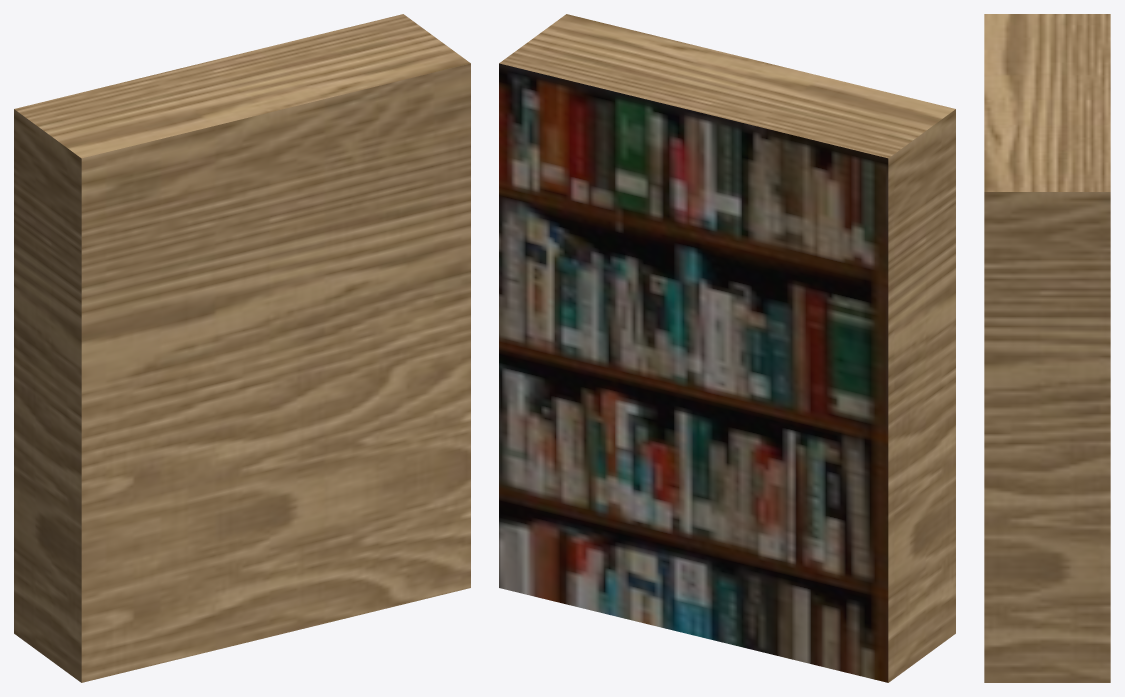
The model's file is BookCase1glb.glb.
The picture shows the model from 3 angles, left to right: view 1: azimuth 30°, elevation 25°; view 2: azimuth 150°, elevation 25°; view 3: azimuth 270°, elevation 25°; orthographic projection. The views are drawn at different scales.
Parts seen in each view (by area): view 1: Librero.002; view 2: Librero.002; view 3: Librero.002.
Part boxes in pixels (x1,y1,x2,y2): Librero.002: (14,14,470,682); Librero.002: (499,14,955,682); Librero.002: (984,14,1110,682).
Size of the model in its own units: 2.04 by 2.62 by 0.6111.
Materials: 2 (2 with a texture image).
